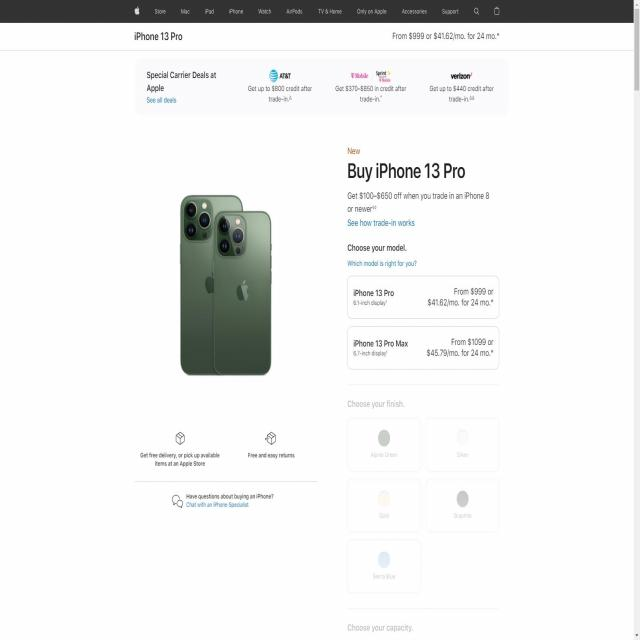button: (347, 275, 500, 319), (347, 326, 499, 370)
